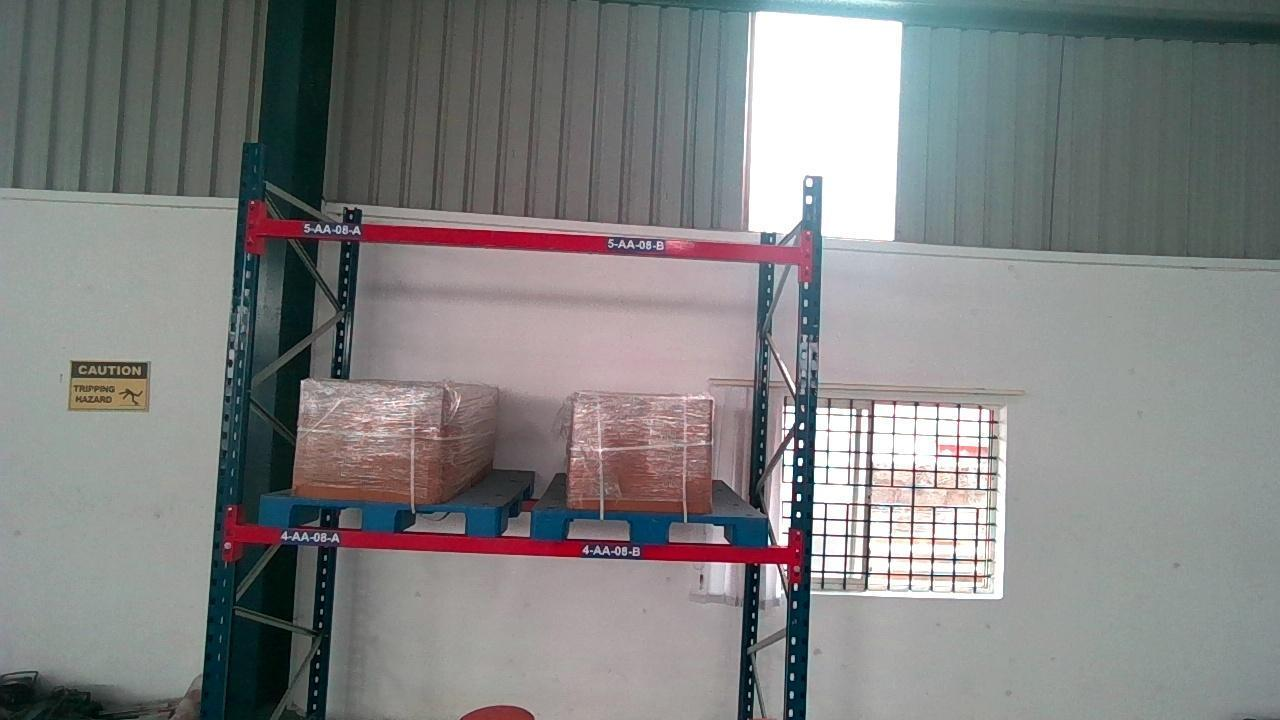h_rack: (248, 219, 801, 262), (239, 528, 782, 556)
small_pallet: (259, 498, 503, 532), (532, 511, 773, 544)
